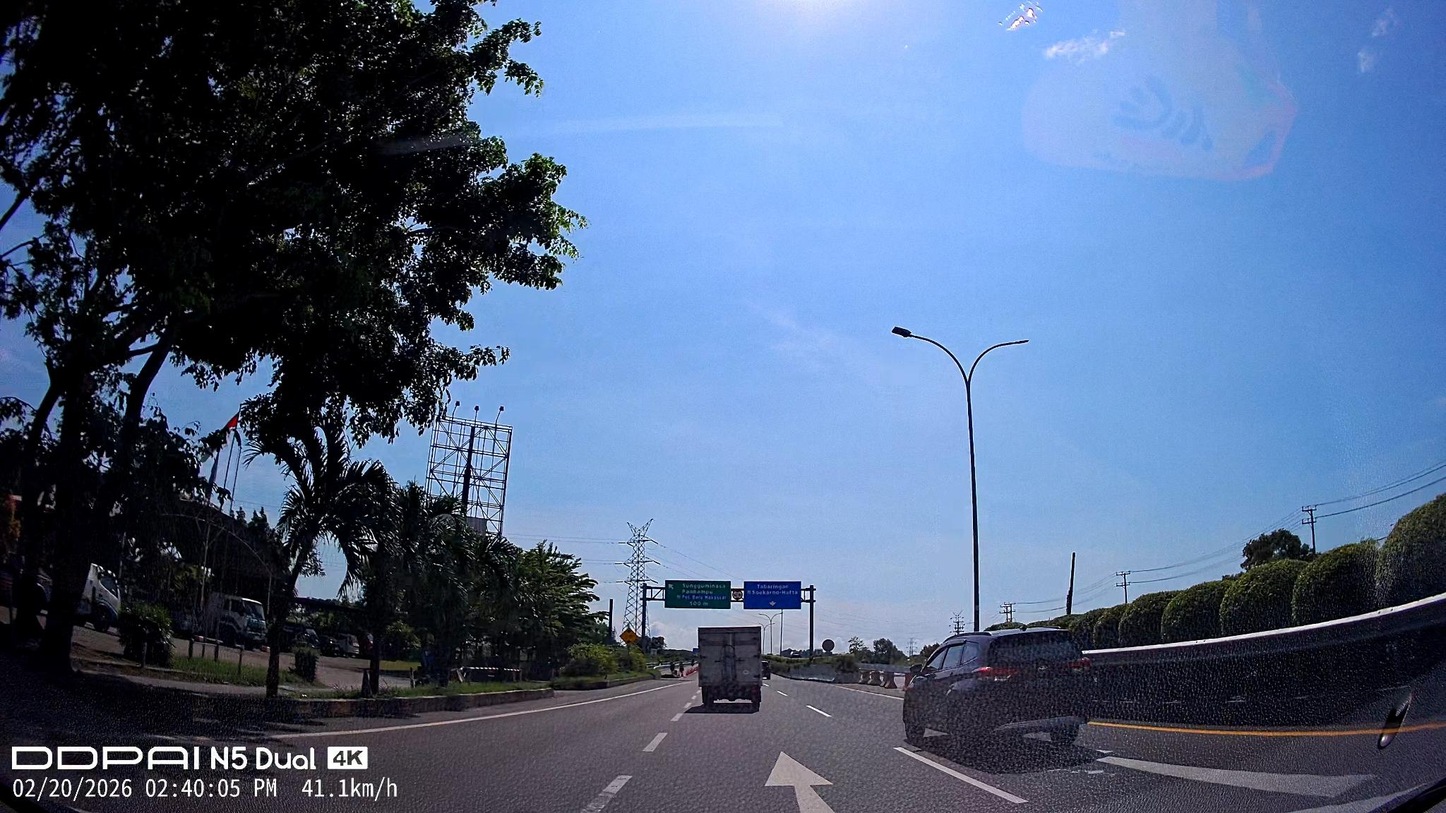rambu_teks: (664, 580, 731, 609), (743, 580, 802, 610)
